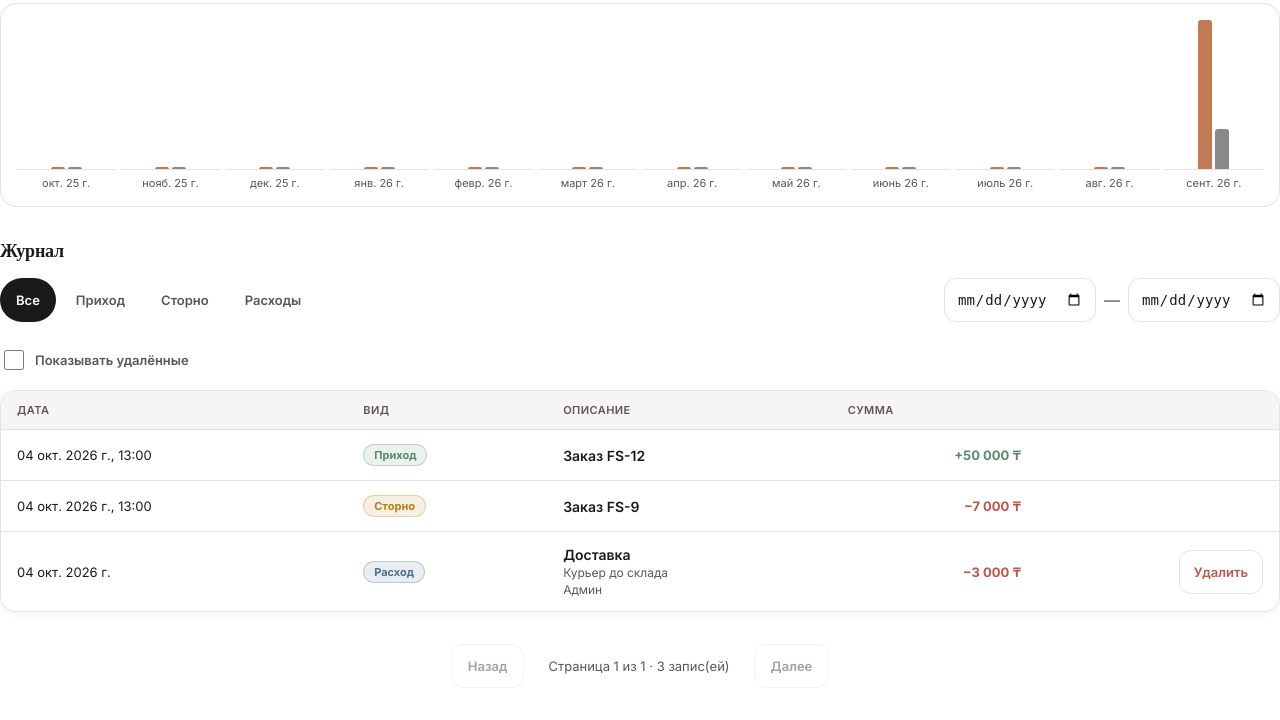
Test: deleting an expense › asks first, in the page (no confirm()), and sends nothing until confirmed
This screenshot has width=1280, height=720.
(page scrolled)
Expected: the text "Заказ FS-12" is shown, [563, 446, 645, 464]
Click the button with aria-label "Удалить расход 3" at [1221, 572], box [1179, 550, 1263, 594]
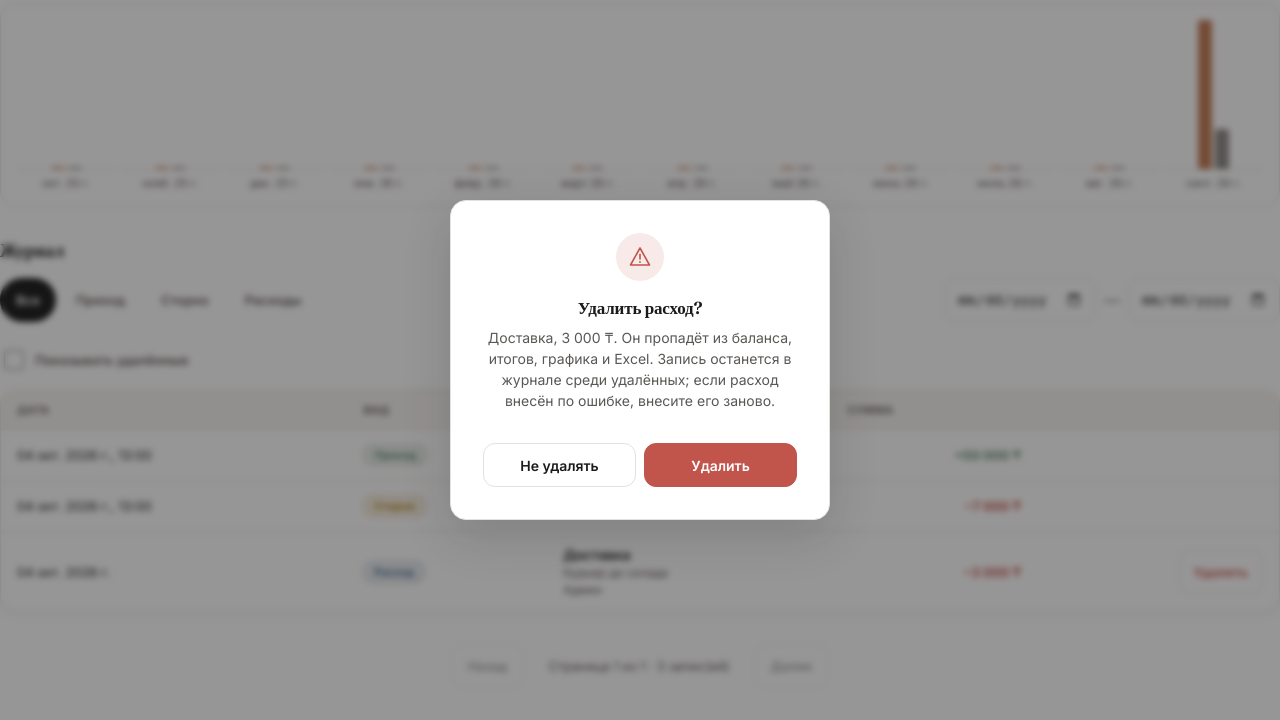
Expected: the heading "Удалить расход?" is shown, [578, 297, 702, 318]
Expected: the dialog shows "Доставка", [488, 329, 792, 409]
